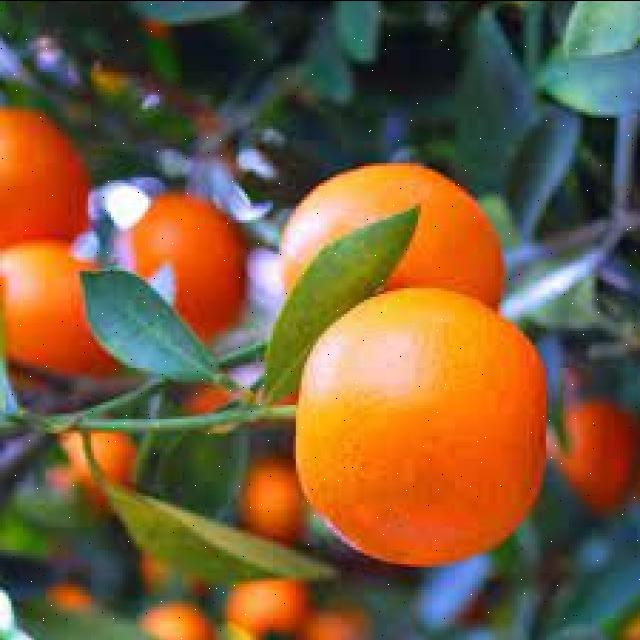Orange: (292, 286, 547, 568), (275, 162, 505, 310), (125, 192, 244, 344), (1, 240, 123, 379), (0, 106, 91, 247), (238, 457, 301, 541)
